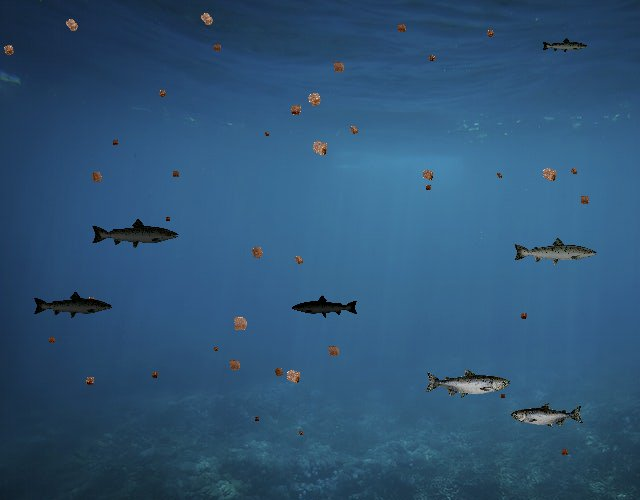Fish: (90, 217, 180, 250), (512, 236, 598, 267), (424, 368, 510, 399), (32, 291, 113, 320), (512, 402, 585, 428), (291, 295, 359, 319), (541, 38, 588, 55)
Pellet: (0, 39, 20, 61), (575, 191, 594, 210), (344, 121, 363, 140), (392, 19, 410, 37), (422, 181, 435, 194), (109, 136, 121, 148), (210, 344, 220, 354)
